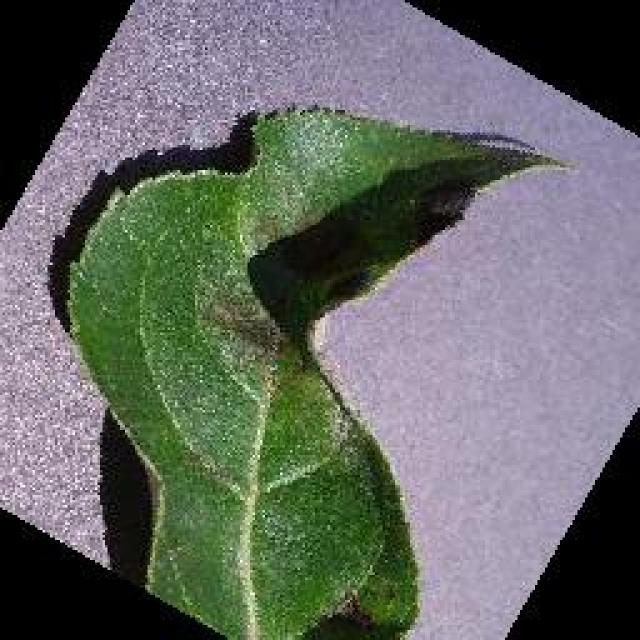apple scab disease: (57, 100, 575, 638)
